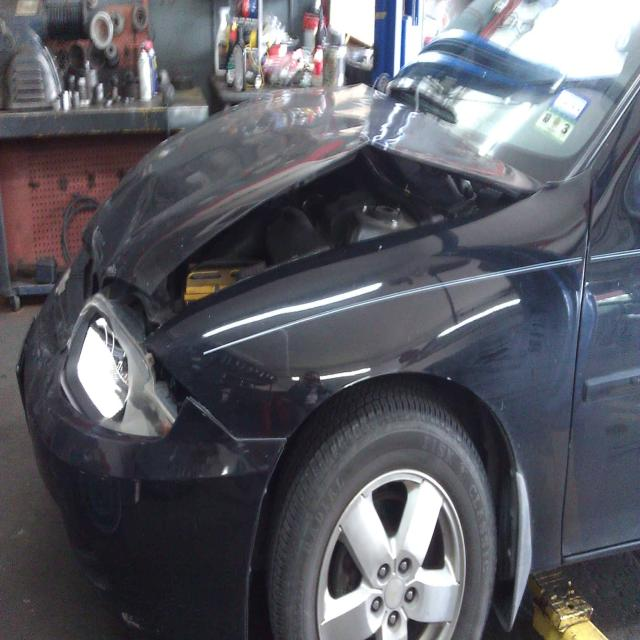crush: (37, 86, 553, 440)
